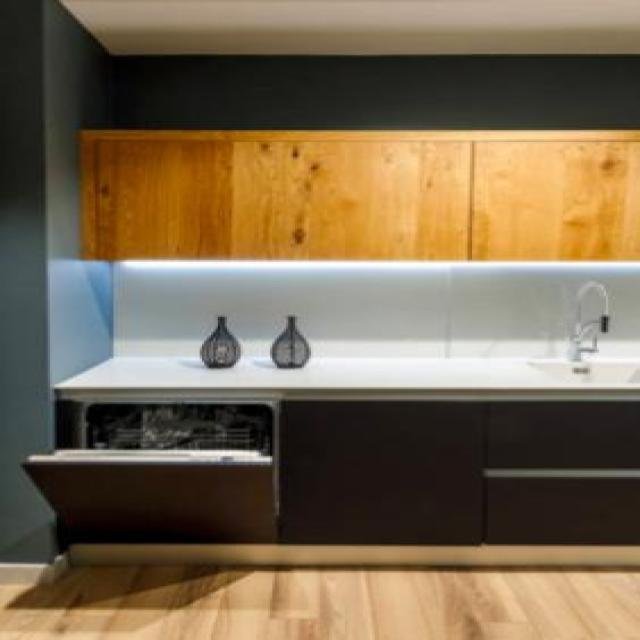dishwasher: (23, 389, 279, 565)
